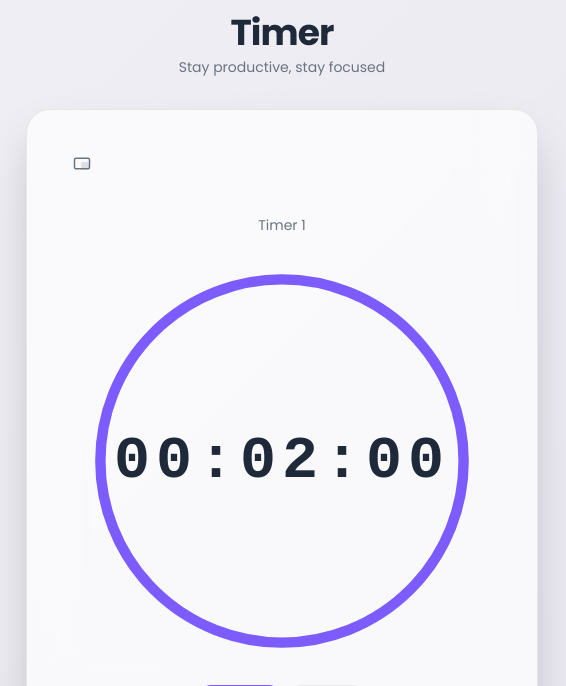
Test: Focus Timer › Timer Label › should become editable when clicked
Click the button with aria-label "click to edit label".
click(282, 225)  # box [258,215,306,235]
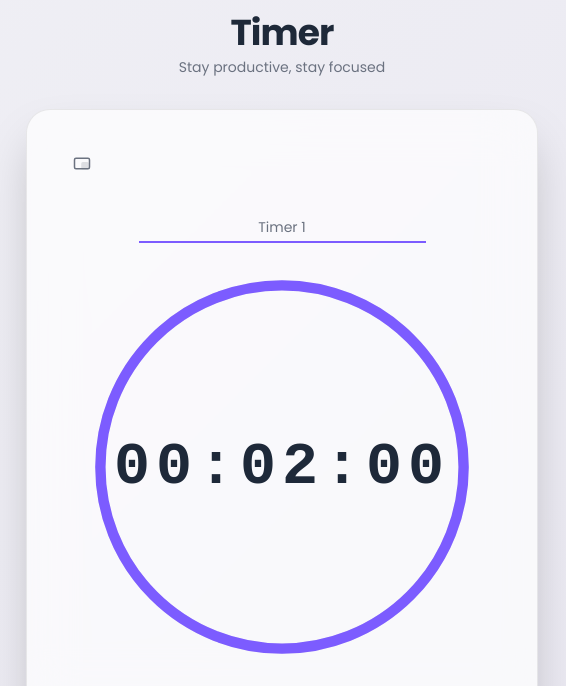
Check: the field named "edit timer label" is shown, box [138,213,426,243]
